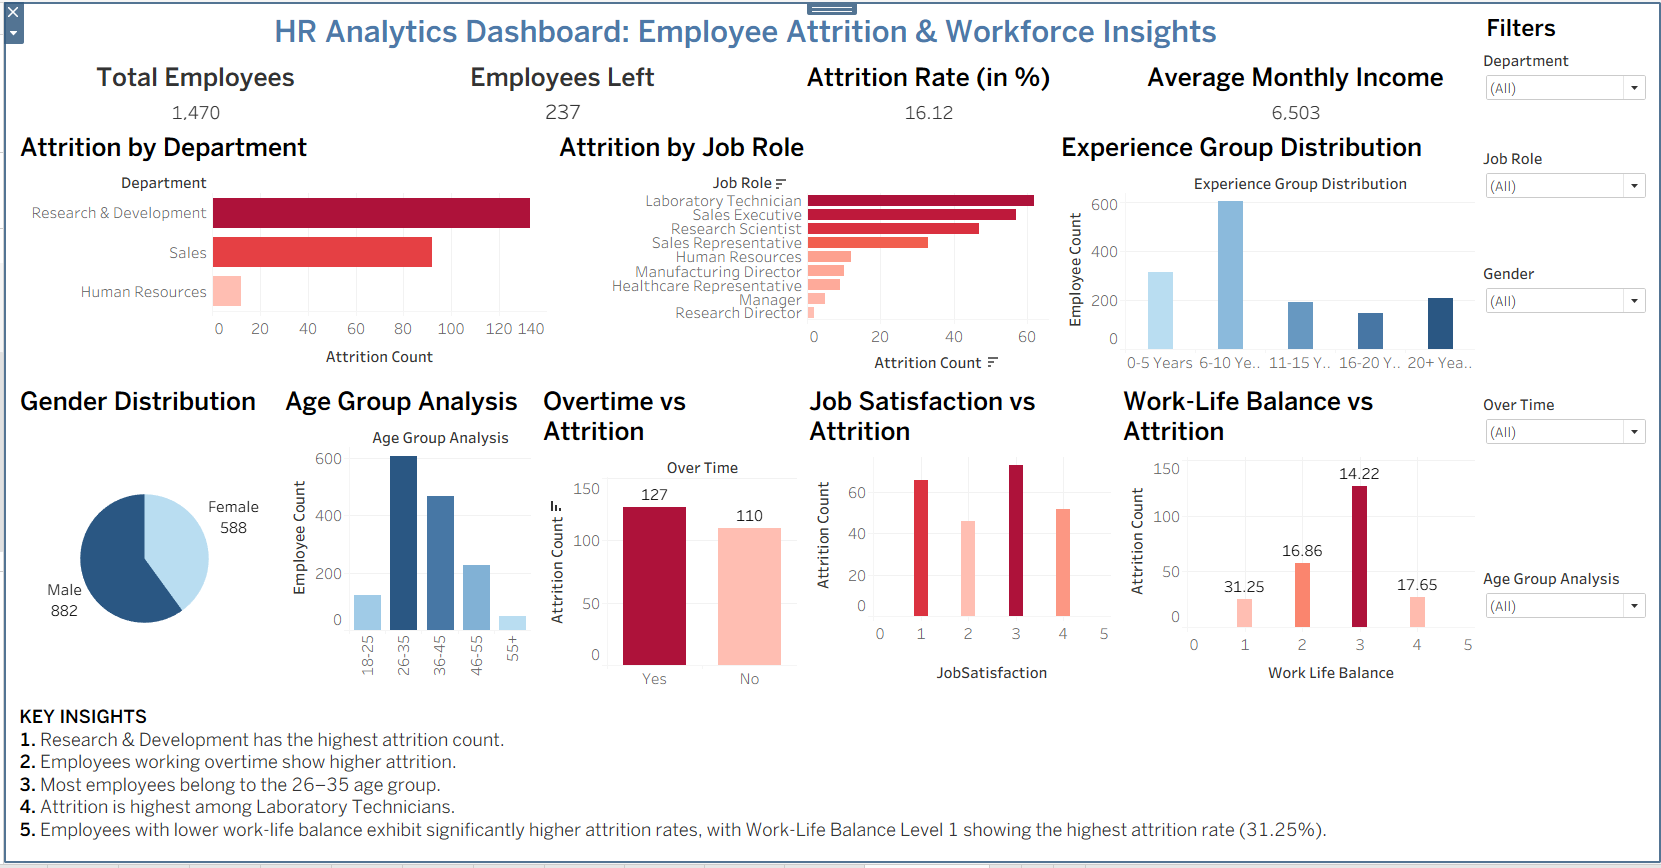

This screenshot's page, from the dashboard's own definition file:
{"tool":"tableau","page":{"name":"Dashboard 1","canvas":[1000,1000],"units":"permille","ordinal":0},"visuals":[{"type":"title","box":[9.7,9.8,768.6,66.2]},{"type":"text","box":[778.3,9.8,211.9,44.2]},{"type":"filter","title":"Sheet 5","param":"[federated.1kxmoqj0qbkp9g18hj5cs0gtwbyb].[none:Department:nk]","box":[778.3,54.1,211.9,110.6]},{"type":"worksheet","title":"Sheet 1","mark":"Automatic","box":[9.7,76,192.1,66.2]},{"type":"worksheet","title":"Sheet 2","mark":"Automatic","box":[201.9,76,192.1,66.2]},{"type":"worksheet","title":"Sheet 3","mark":"Automatic","box":[394,76,192.1,66.2]},{"type":"worksheet","title":"Sheet 4","mark":"Automatic","box":[586.2,76,192.2,66.2]},{"type":"worksheet","title":"Sheet 5","mark":"Automatic","rows":["Department"],"cols":["Calculation_2032730003263488"],"box":[9.7,142.2,282.2,294.8]},{"type":"worksheet","title":"Sheet 6","mark":"Automatic","rows":["JobRole"],"cols":["Calculation_2032730003263488"],"box":[291.9,142.2,447.4,294.8]},{"type":"worksheet","title":"Sheet 13","mark":"Automatic","rows":["EmployeeCount"],"cols":["Calculation_2032730021560325"],"box":[739.3,142.2,39,294.8]},{"type":"filter","title":"Sheet 6","param":"[federated.1kxmoqj0qbkp9g18hj5cs0gtwbyb].[none:JobRole:nk]","box":[778.3,165.3,211.9,141.3]},{"type":"filter","title":"Sheet 7","param":"[federated.1kxmoqj0qbkp9g18hj5cs0gtwbyb].[none:Gender:nk]","box":[778.3,306.5,211.9,160.9]},{"type":"worksheet","title":"Sheet 7","mark":"Pie","box":[9.7,437,187.3,366.3]},{"type":"worksheet","title":"Sheet 8","mark":"Automatic","rows":["EmployeeCount"],"cols":["Calculation_2032730007060483"],"box":[197,437,187.3,366.3]},{"type":"worksheet","title":"Sheet 9","mark":"Automatic","rows":["Calculation_2032730003263488"],"cols":["OverTime"],"box":[384.3,437,39,366.3]},{"type":"worksheet","title":"Sheet 10","mark":"Bar","rows":["Calculation_2032730003263488"],"cols":["JobSatisfaction"],"box":[423.3,437,164.5,366.3]},{"type":"worksheet","title":"Sheet 11","mark":"Bar","rows":["Calculation_2032730003263488"],"cols":["WorkLifeBalance"],"box":[587.8,437,190.6,366.3]},{"type":"filter","title":"Sheet 9","param":"[federated.1kxmoqj0qbkp9g18hj5cs0gtwbyb].[none:OverTime:nk]","box":[778.3,467.5,211.9,198.3]},{"type":"filter","title":"Sheet 8","param":"[federated.1kxmoqj0qbkp9g18hj5cs0gtwbyb].[none:Calculation_2032730007060483:nk]","box":[778.3,665.8,211.9,137.6]},{"type":"text","box":[9.7,803.4,980.5,186.8]}]}

Visuals, with their boxes on the dashboard's canvas, which has no fixed pixel size, in thousandths of its width and height (x1, y1, x2, y2). These are canvas units, not pixel positions in the 1661x868 screenshot, which may show the page scaled, cropped or inside an application window:
title: bbox=(10, 10, 778, 76)
text: bbox=(778, 10, 990, 54)
"Sheet 5" filter: bbox=(778, 54, 990, 165)
"Sheet 1" worksheet: bbox=(10, 76, 202, 142)
"Sheet 2" worksheet: bbox=(202, 76, 394, 142)
"Sheet 3" worksheet: bbox=(394, 76, 586, 142)
"Sheet 4" worksheet: bbox=(586, 76, 778, 142)
"Sheet 5" worksheet: bbox=(10, 142, 292, 437)
"Sheet 6" worksheet: bbox=(292, 142, 739, 437)
"Sheet 13" worksheet: bbox=(739, 142, 778, 437)
"Sheet 6" filter: bbox=(778, 165, 990, 307)
"Sheet 7" filter: bbox=(778, 306, 990, 467)
"Sheet 7" worksheet (Pie marks): bbox=(10, 437, 197, 803)
"Sheet 8" worksheet: bbox=(197, 437, 384, 803)
"Sheet 9" worksheet: bbox=(384, 437, 423, 803)
"Sheet 10" worksheet (Bar marks): bbox=(423, 437, 588, 803)
"Sheet 11" worksheet (Bar marks): bbox=(588, 437, 778, 803)
"Sheet 9" filter: bbox=(778, 468, 990, 666)
"Sheet 8" filter: bbox=(778, 666, 990, 803)
text: bbox=(10, 803, 990, 990)
